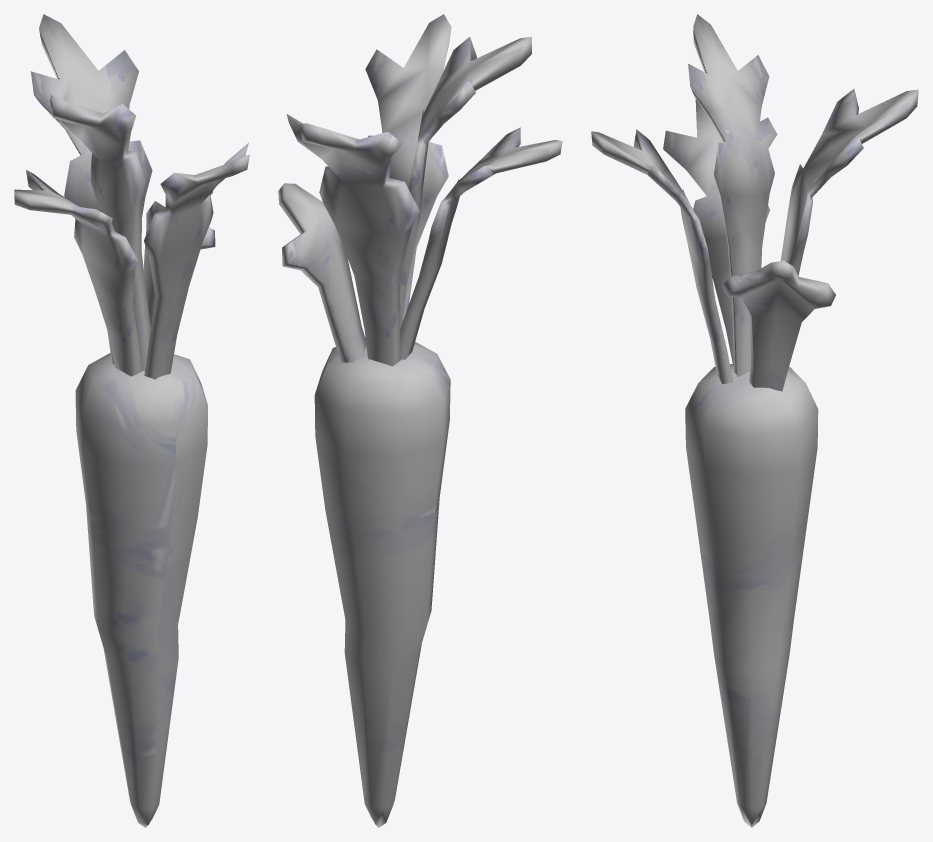
The model's file is Carrot.fbx.
The picture shows the model from 3 angles, left to right: view 1: azimuth 30°, elevation 25°; view 2: azimuth 150°, elevation 25°; view 3: azimuth 270°, elevation 25°; orthographic projection. The views are drawn at different scales.
Parts seen in each view (by area): view 1: Carrot; view 2: Carrot; view 3: Carrot.
Boxes of the visible parts, x1,y1,x2,y2 form: Carrot: (14, 14, 249, 827); Carrot: (278, 14, 562, 827); Carrot: (591, 14, 918, 827).
Bounding box in the file's own units: 17.99 × 56.58 × 22.2.
